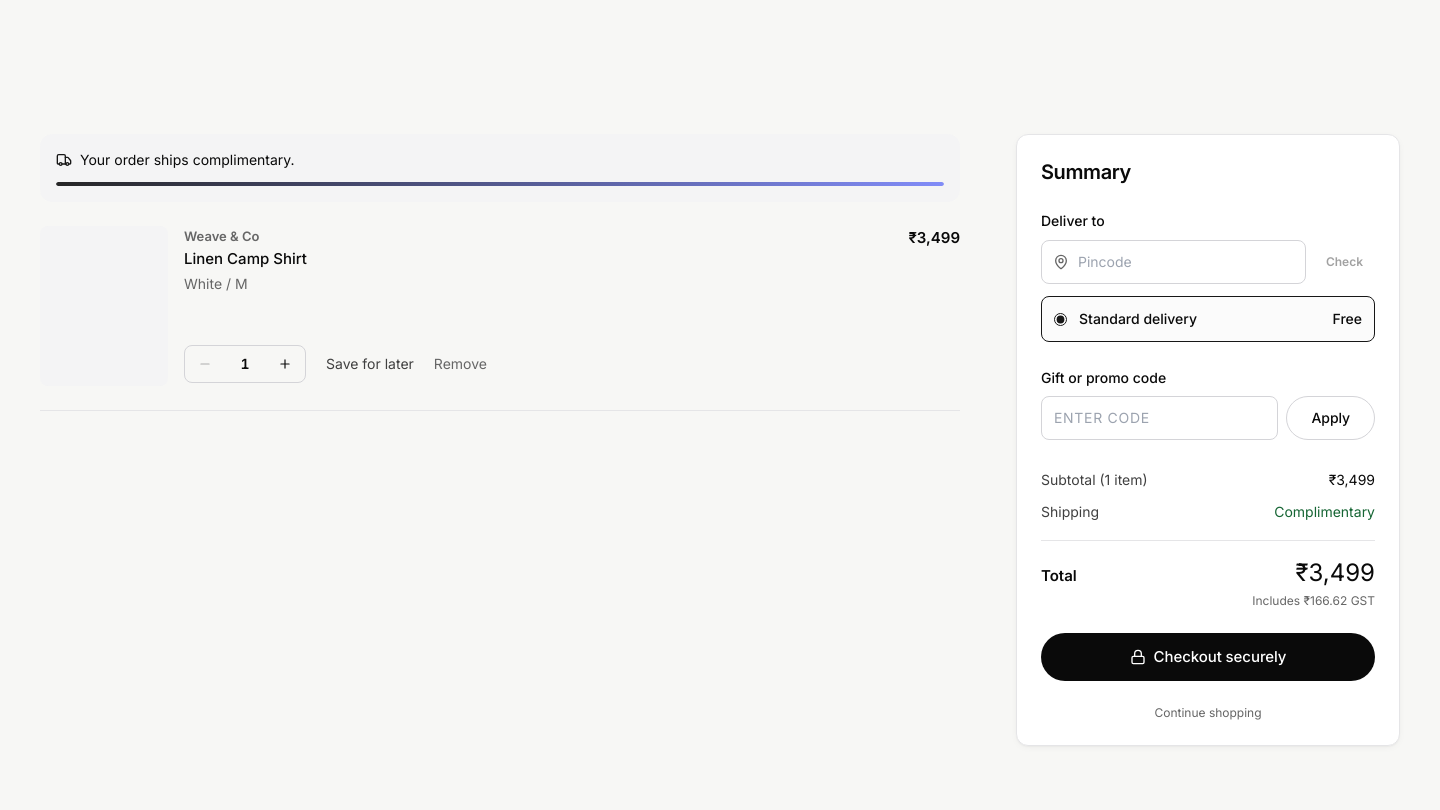
Scenario: cart page (guest) › shows why a coupon was rejected
Type "festive15" into the field labelled "Gift or promo code" at (1160, 418), box [1041,396,1278,440]
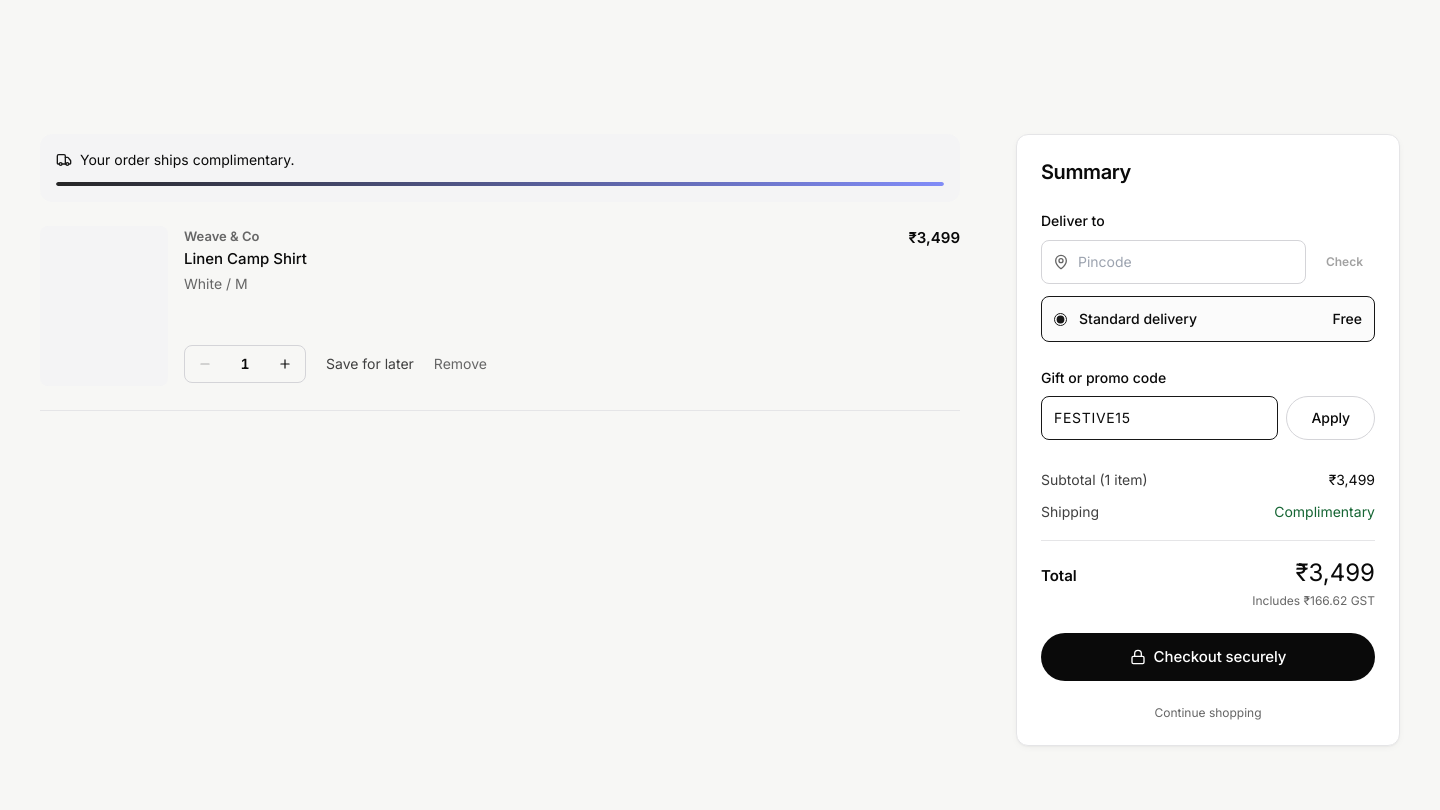
Click the button "Apply" at (1331, 418), box [1286,396,1375,440]
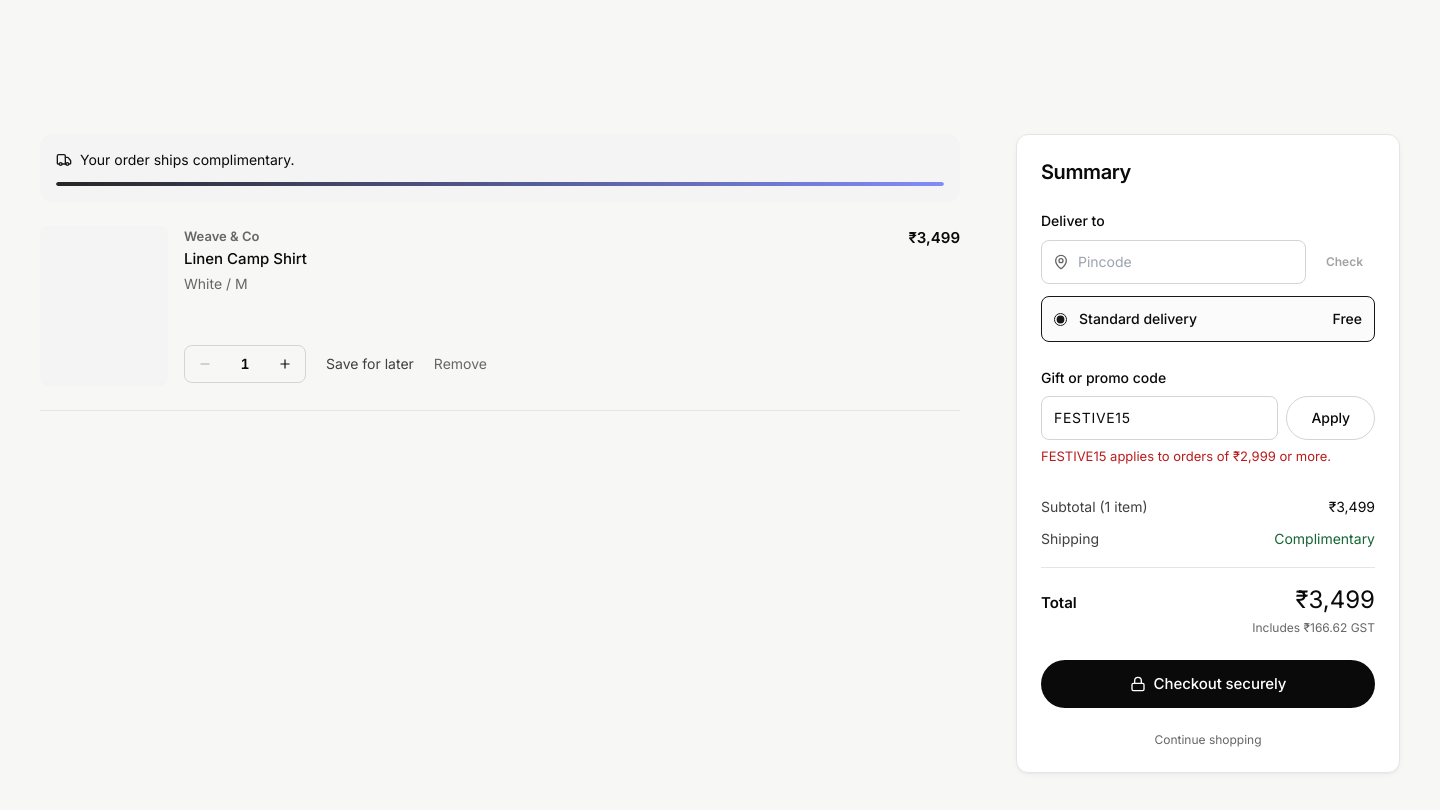
expect the message shows "applies to orders of ₹2,999 or more": met, box [1041,448,1331,464]
